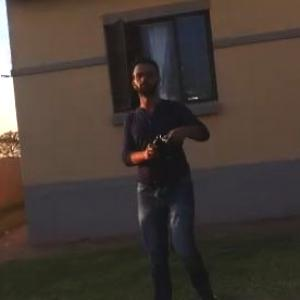follow: (110, 48, 222, 299)
